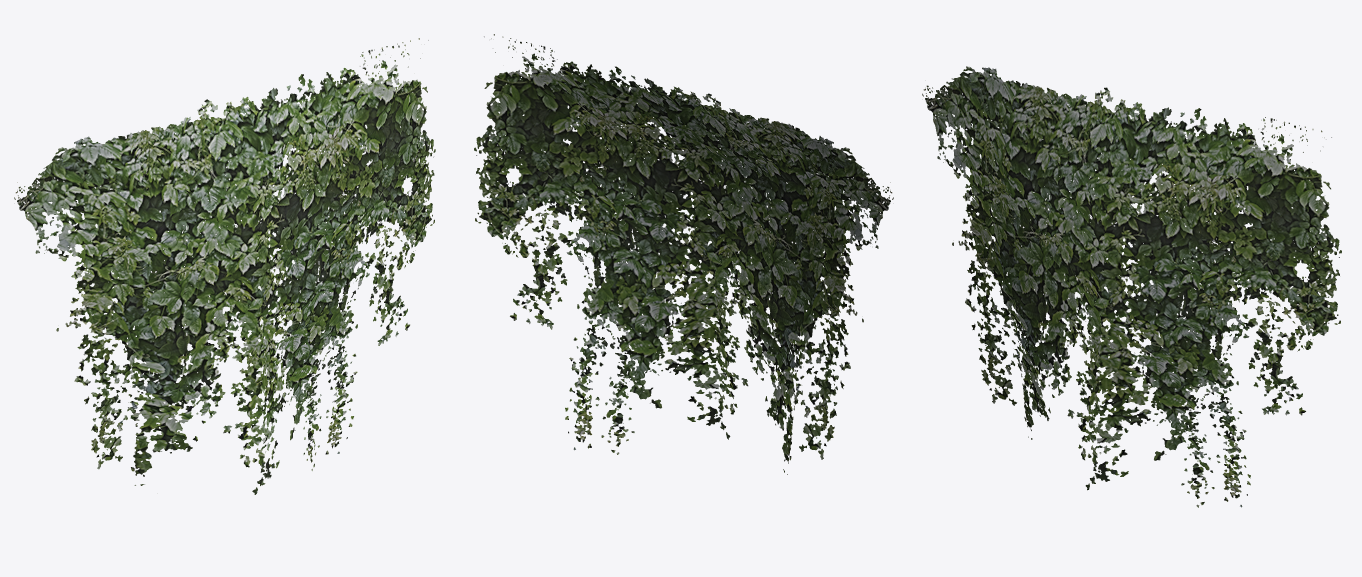
Rendered from RV_Wall_Vines_04.fbx.
3 renders of one model, left to right at view 1: azimuth 30°, elevation 25°; view 2: azimuth 150°, elevation 25°; view 3: azimuth 330°, elevation 25°, orthographic.
Visible parts, largest first — view 1: RV_Wall_Vines_04; view 2: RV_Wall_Vines_04; view 3: RV_Wall_Vines_04.
Part boxes in pixels (<box>): RV_Wall_Vines_04: <box>14,38,435,494</box>; RV_Wall_Vines_04: <box>474,34,893,474</box>; RV_Wall_Vines_04: <box>922,66,1341,507</box>.
Bounding box in the file's own units: 179 × 179 × 29.84.
